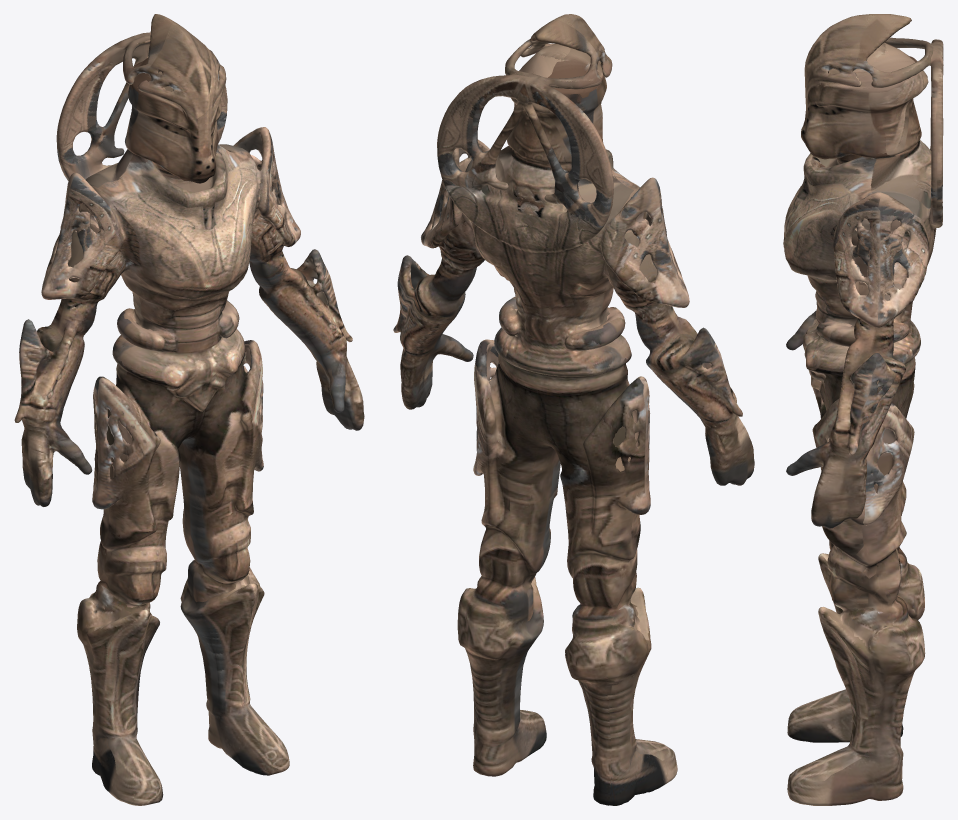
The model's file is saint-llothis-overview-v1.glb.
The picture shows the model from 3 angles, left to right: view 1: azimuth 30°, elevation 25°; view 2: azimuth 150°, elevation 25°; view 3: azimuth 270°, elevation 25°; orthographic projection. The views are drawn at different scales.
Visible parts, largest first — view 1: saint-llothis; view 2: saint-llothis; view 3: saint-llothis.
Boxes of the visible parts, x1,y1,x2,y2 form: saint-llothis: (14, 14, 364, 805); saint-llothis: (393, 14, 754, 805); saint-llothis: (783, 14, 943, 805).
Bounding box in the file's own units: 0.9576 × 1.99 × 0.3856.
Materials: 1 (1 with a texture image).
